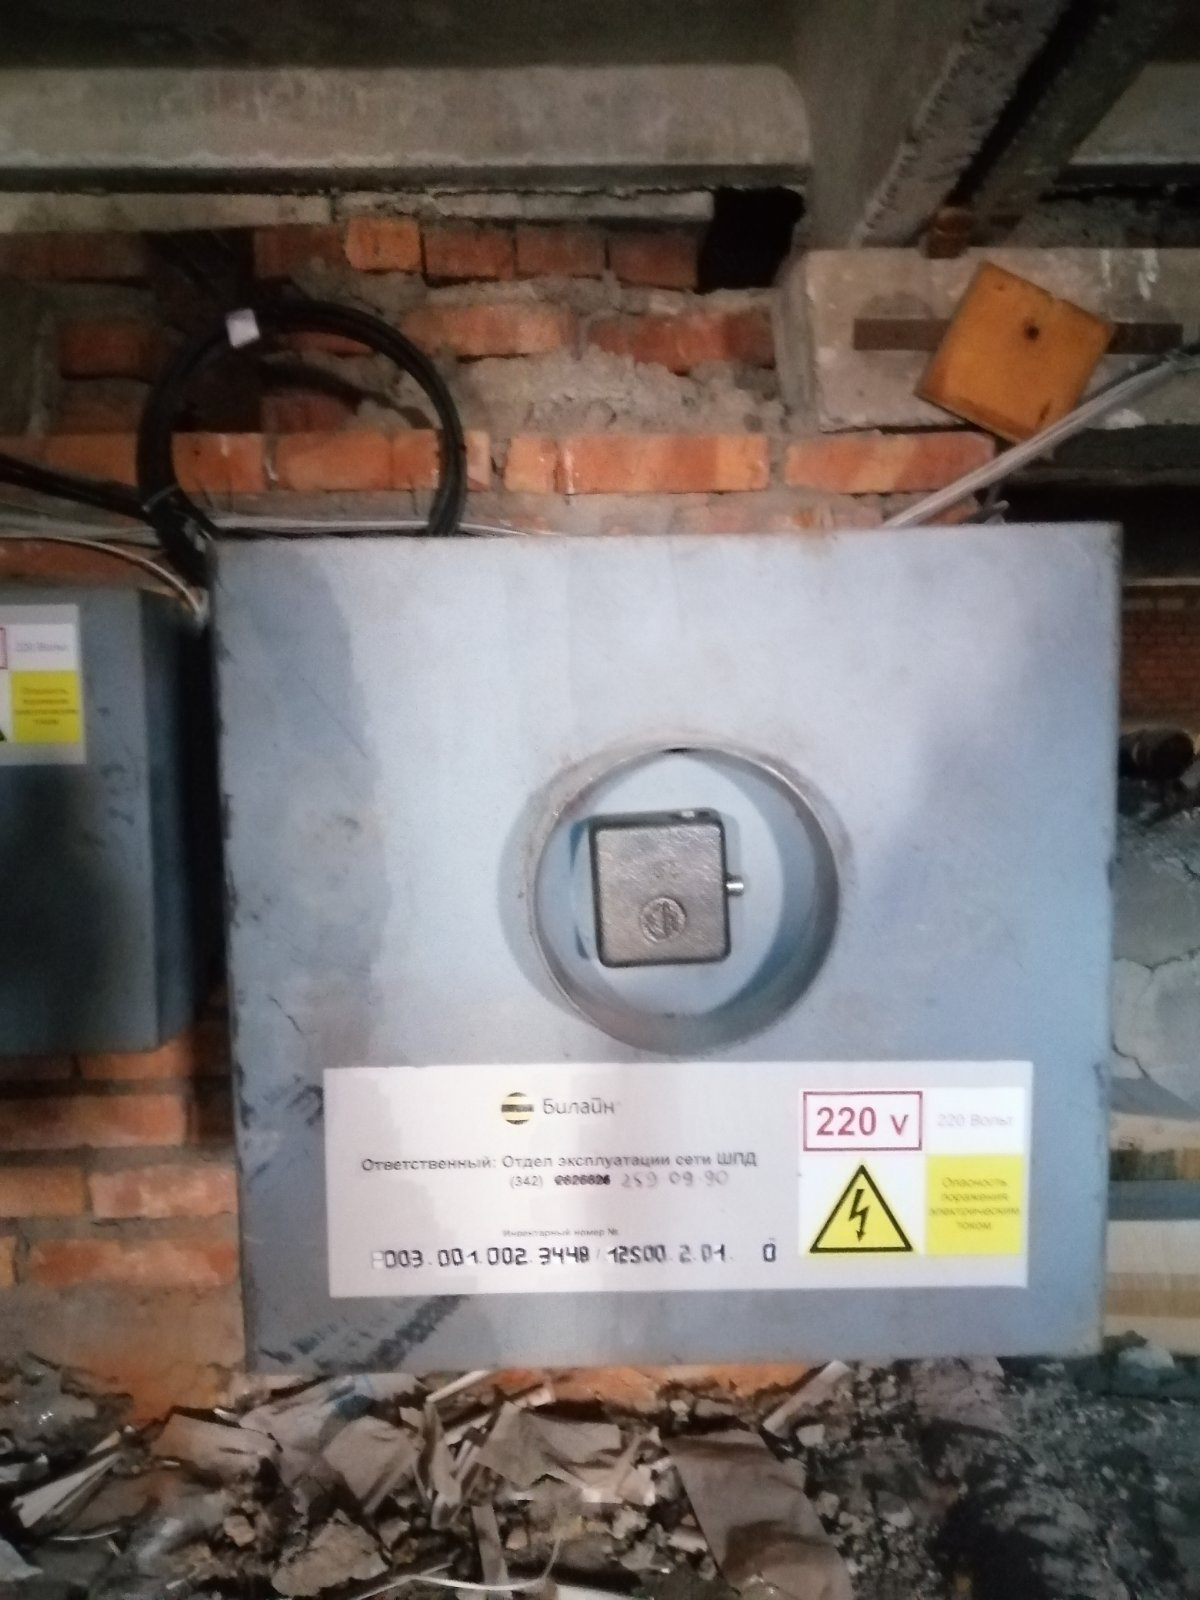shta-9: (204, 513, 1127, 1383)
